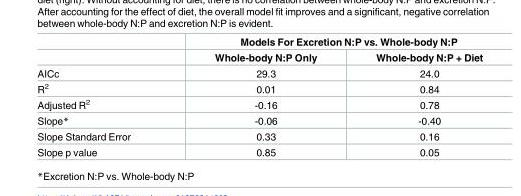table: (36, 37, 482, 157)
table column: (171, 37, 345, 157), (345, 37, 482, 157), (36, 37, 171, 157)
table column header: (36, 37, 482, 65)
table row: (36, 112, 482, 129), (36, 49, 482, 65), (36, 80, 482, 96), (36, 96, 482, 112), (36, 65, 482, 80), (36, 129, 482, 144), (36, 144, 482, 157), (36, 37, 482, 49)
table spanning cell: (171, 37, 482, 49)
